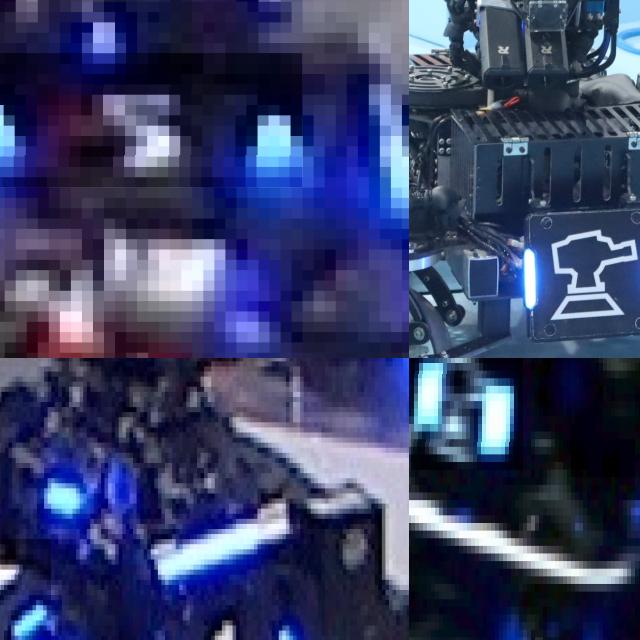B1: (0, 539, 51, 640), (154, 615, 296, 640)
B5: (0, 53, 302, 187)
Bs: (411, 358, 523, 469), (526, 225, 640, 329)
